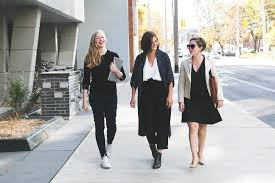Bad: (130, 31, 224, 169), (81, 30, 173, 169)
